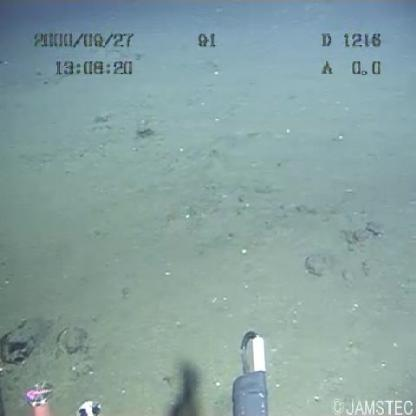Rov: (227, 318, 277, 416)
